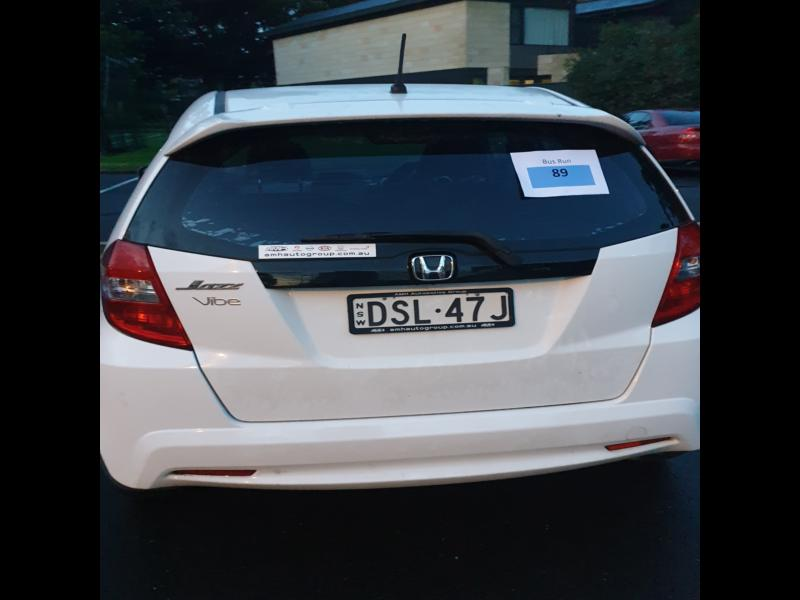BusRun: (529, 167, 595, 185)
PlateNo: (348, 293, 513, 330)
